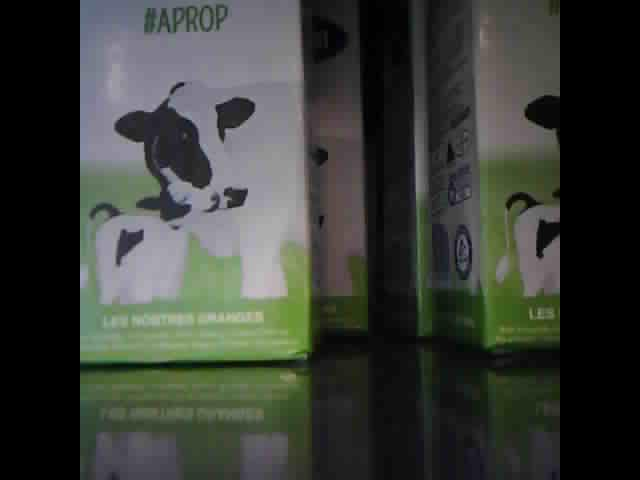leche: (80, 1, 308, 363), (430, 5, 560, 355), (313, 3, 366, 337), (384, 4, 429, 335)
